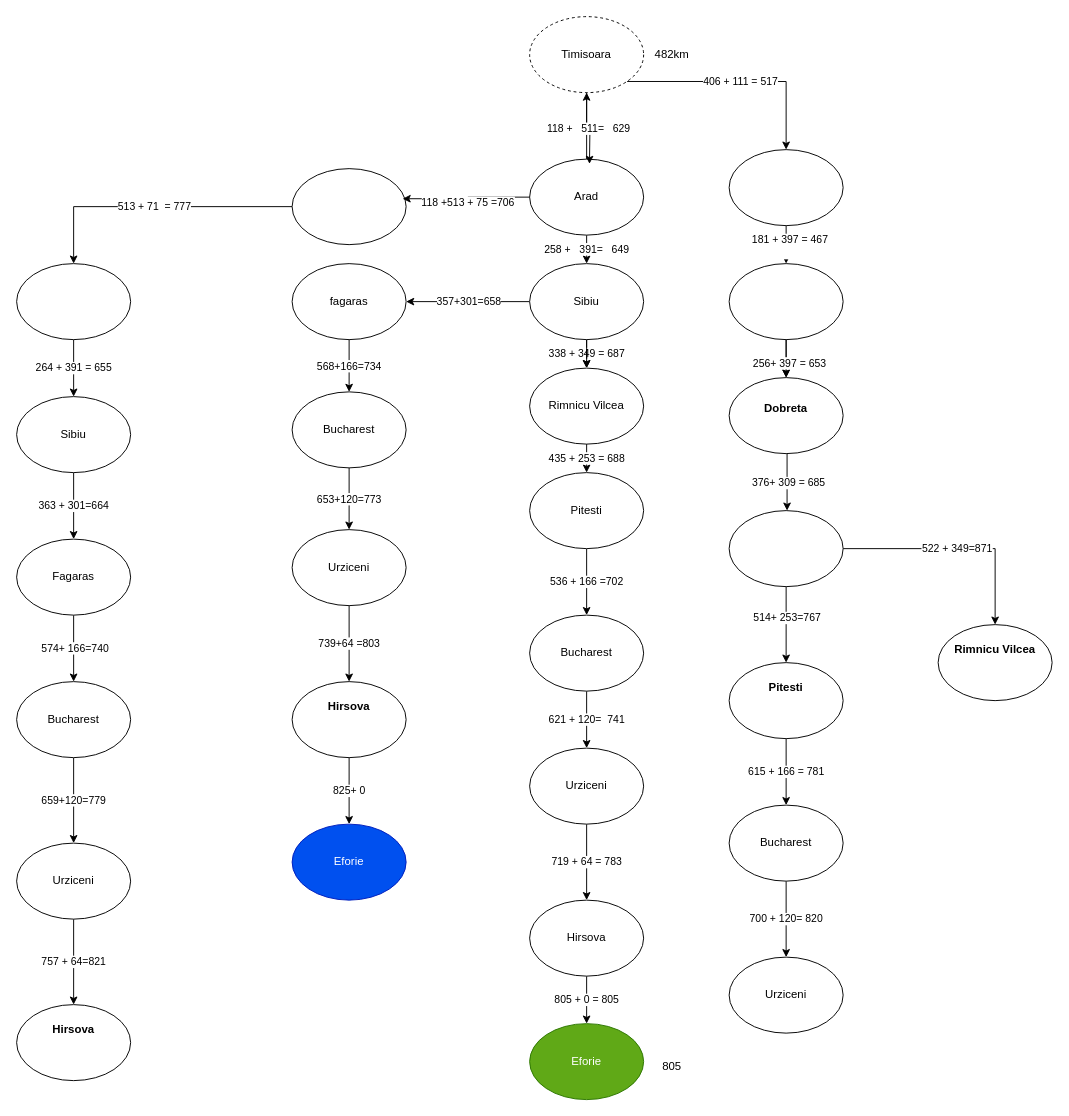
Image size: 1069x1116. Some labels were removed from this diagram. The shapes that lost their labels are listed below. From the top down, each one's box as (x1, y1, x2, y2) in pixels, then its label:
(291, 168, 406, 245): Zerid
(728, 149, 843, 226): lugoj
(16, 263, 131, 340): Oradea
(728, 263, 843, 340): Mehadia
(728, 510, 843, 587): Craiova
